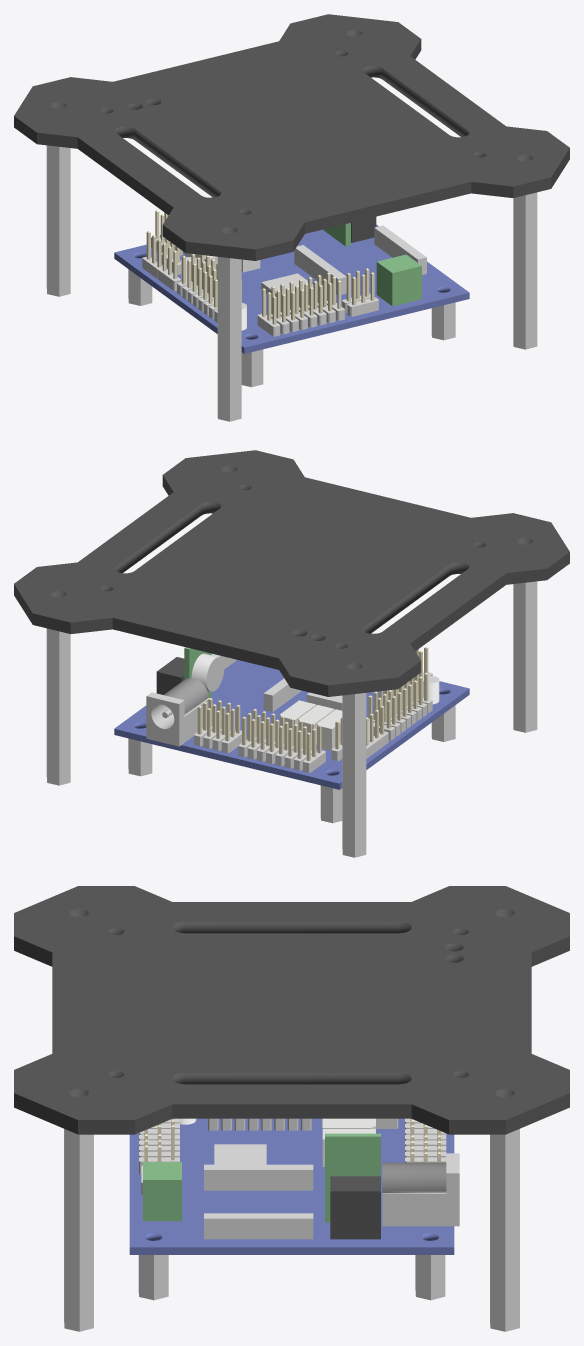
The model's file is phantomx_pincher_mount.dae.
3 views of the same model, one above another, from view 1: azimuth 30°, elevation 25°; view 2: azimuth 150°, elevation 25°; view 3: azimuth 270°, elevation 25° (orthographic). The views are drawn at different scales.
Visible parts, largest first — view 1: phantomx_pincher_mount, arbotix_board; view 2: phantomx_pincher_mount, arbotix_board; view 3: phantomx_pincher_mount, arbotix_board.
Part boxes in pixels (x1,y1,x2,y2): phantomx_pincher_mount: (14, 14, 569, 421); arbotix_board: (114, 197, 469, 387); phantomx_pincher_mount: (14, 450, 569, 857); arbotix_board: (114, 633, 469, 823); phantomx_pincher_mount: (14, 886, 569, 1331); arbotix_board: (129, 1118, 459, 1300).
Size of the model in its own units: 0.104 by 0.1044 by 0.048.
